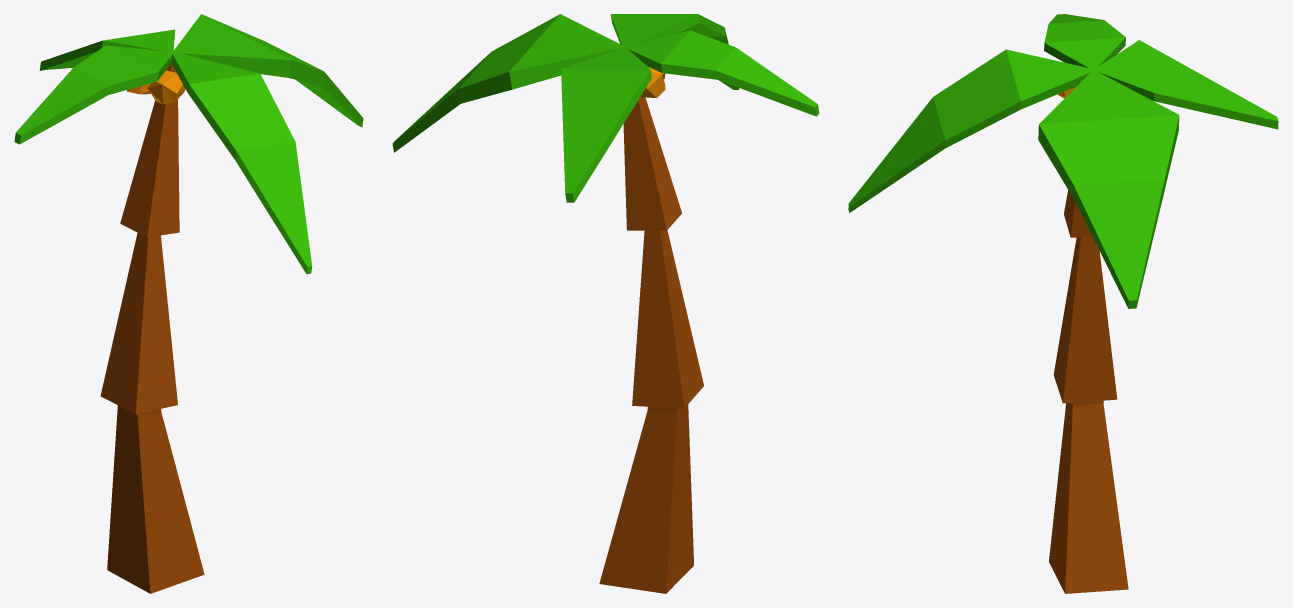
3 views of the same model, side by side, from view 1: azimuth 30°, elevation 25°; view 2: azimuth 150°, elevation 25°; view 3: azimuth 270°, elevation 25° (orthographic).
Parts seen in each view (by area): view 1: Cube.001, Nut.001; view 2: Cube.001; view 3: Cube.001.
Boxes of the visible parts, bbox=[...] form: Cube.001: bbox=[14, 14, 363, 593]; Nut.001: bbox=[147, 70, 184, 104]; Cube.001: bbox=[392, 14, 819, 593]; Cube.001: bbox=[848, 14, 1278, 593].
Bounding box in the file's own units: 5.76 × 7.57 × 5.63.
